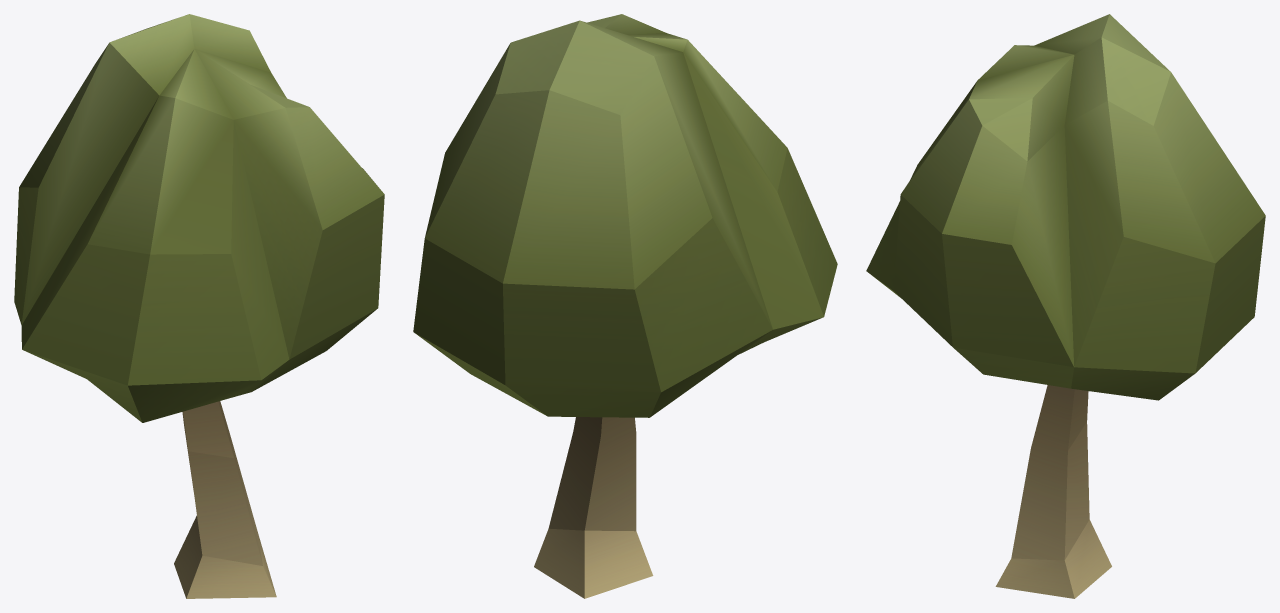
The model's file is tree06_mdl.FBX.
3 views of the same model, side by side, from view 1: azimuth 30°, elevation 25°; view 2: azimuth 150°, elevation 25°; view 3: azimuth 270°, elevation 25° (orthographic). The views are drawn at different scales.
Parts seen in each view (by area): view 1: tree6; view 2: tree6; view 3: tree6.
Boxes of the visible parts, x1,y1,x2,y2 form: tree6: (14, 14, 384, 598); tree6: (413, 14, 837, 598); tree6: (866, 14, 1265, 598).
Size of the model in its own units: 2.41 by 3.56 by 2.42.
1 material, 1 textured.
